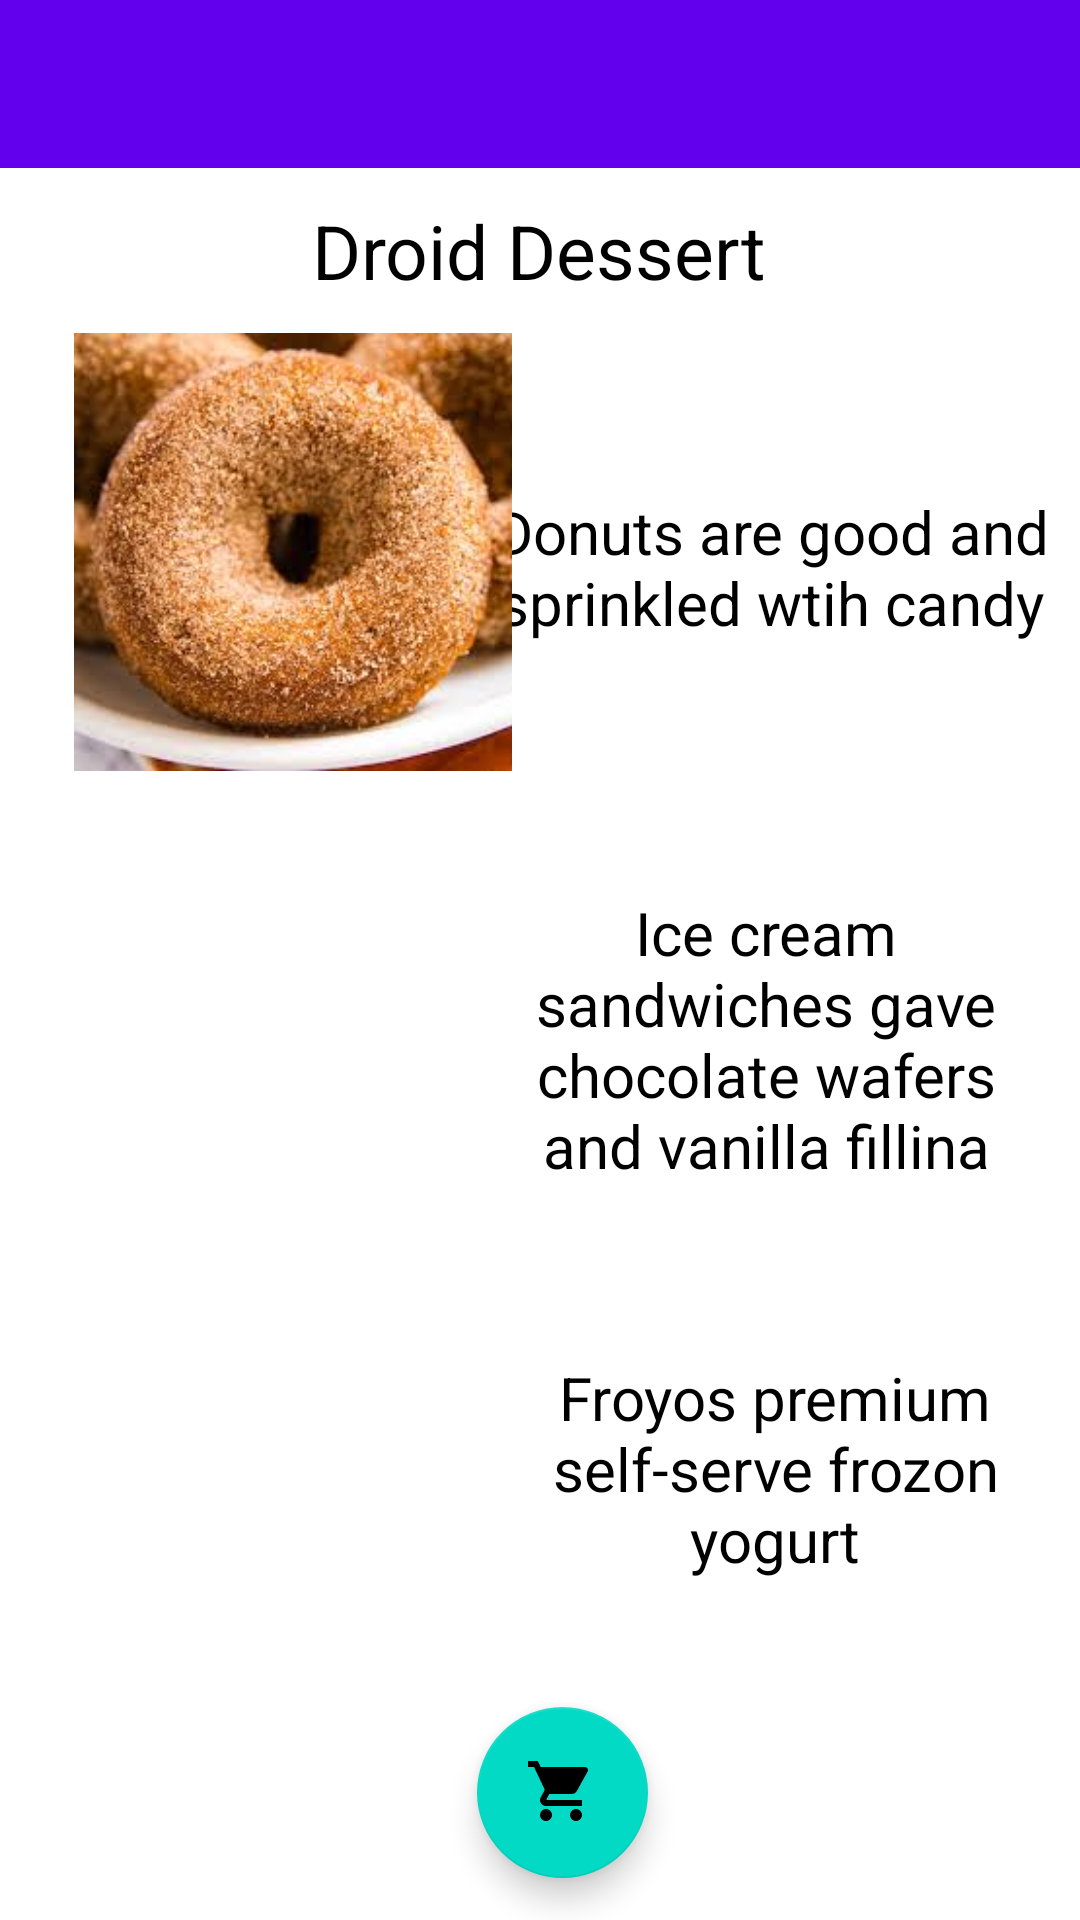

Named icons in this screenshot (1080px×1920px) and their bounding boxes, (x1, y1, x2, y2):
shopping: (477, 1707, 648, 1878)
